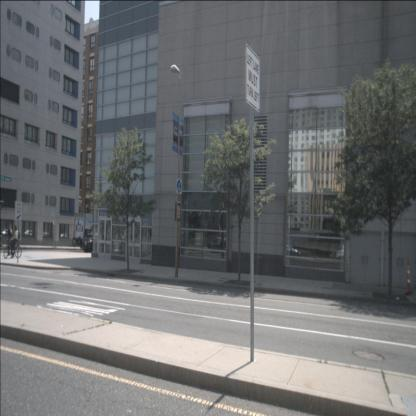human-pedestrian-adult: (8, 221, 13, 256)
movable_object-trafficcone: (405, 257, 414, 295)
vehicle-bicycle: (3, 224, 22, 258)
vehicle-car: (82, 230, 115, 254), (336, 243, 363, 264), (272, 242, 302, 260), (207, 238, 226, 251)
vehicle-truck: (216, 235, 242, 250)
